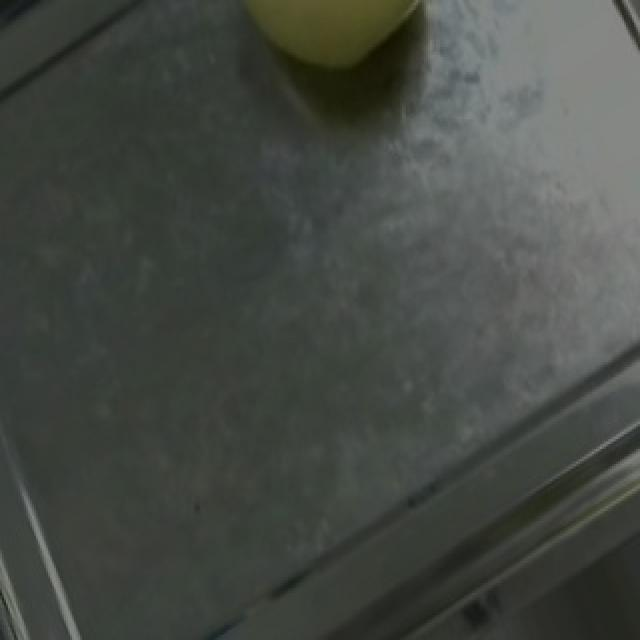Fruit: (198, 0, 460, 107)
